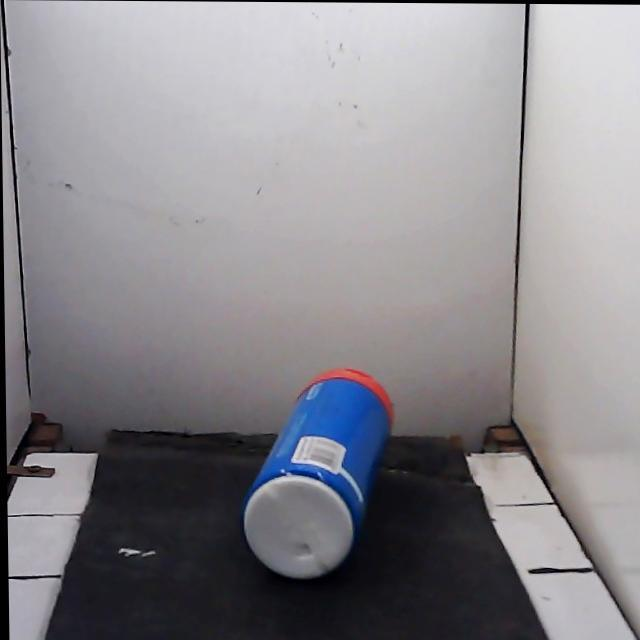plastico: (244, 369, 393, 578)
